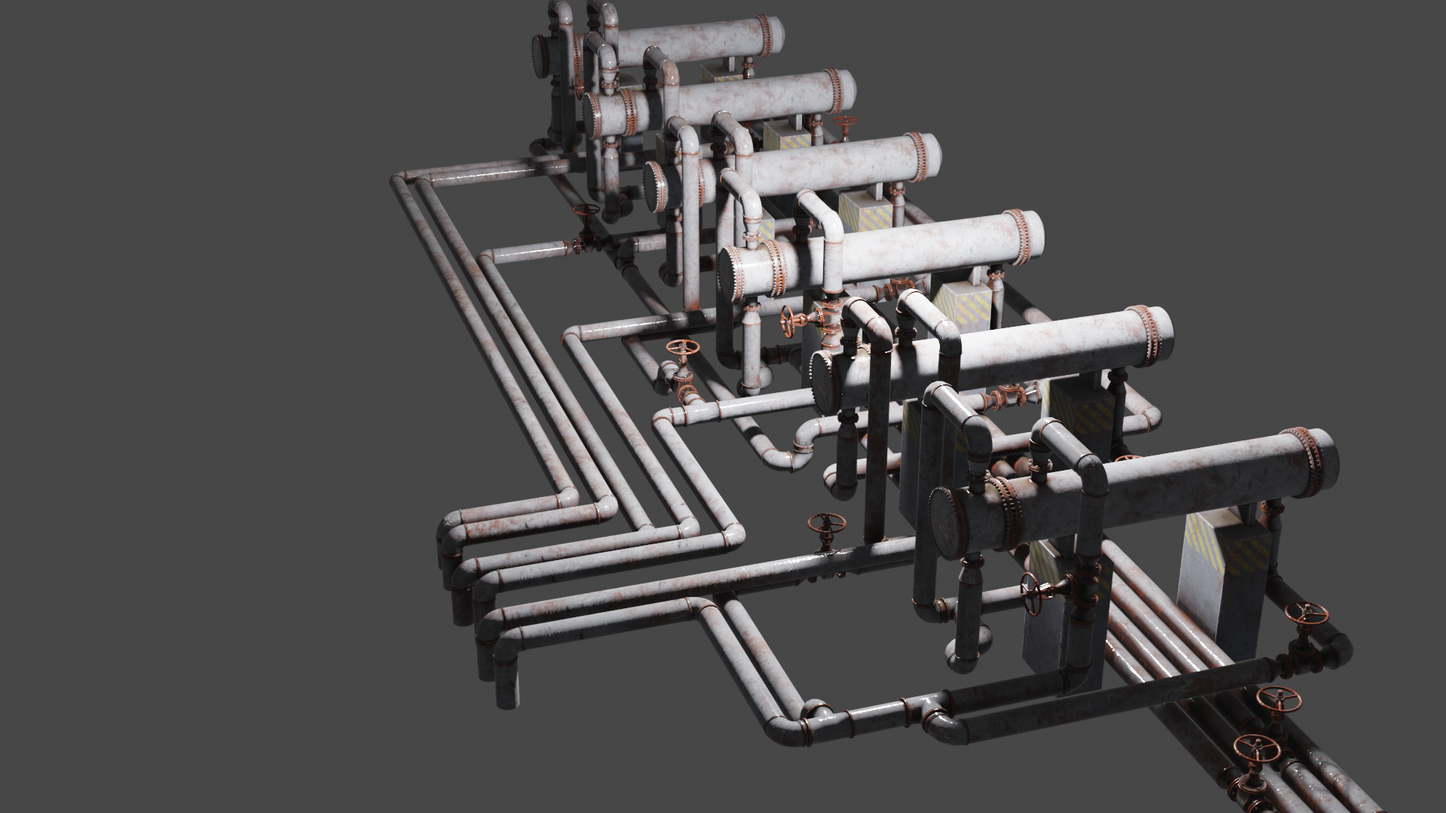HE_1: (533, 17, 783, 72)
HE_2: (584, 65, 857, 143)
HE_3: (646, 131, 946, 212)
HE_4: (713, 210, 1052, 302)
HE_5: (804, 300, 1178, 417)
HE_6: (927, 422, 1347, 560)
